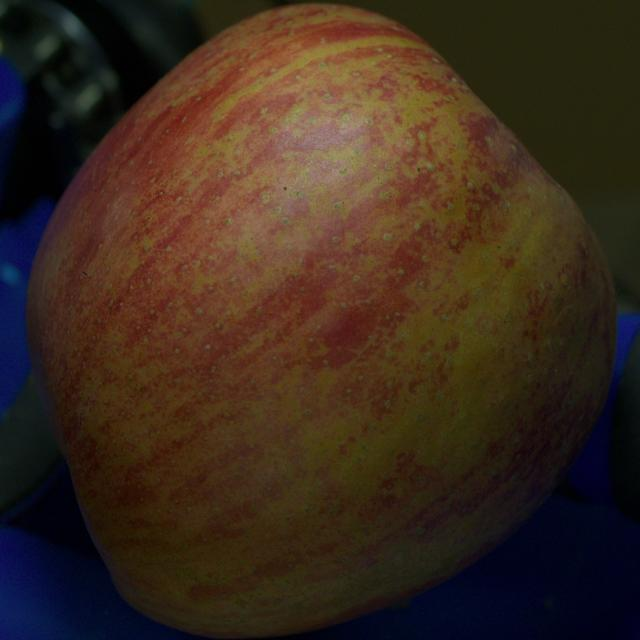apple: (26, 5, 616, 638)
